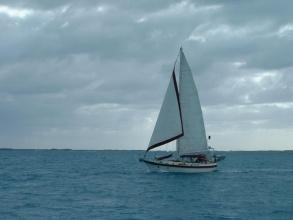fanchuan: (138, 43, 225, 170)
